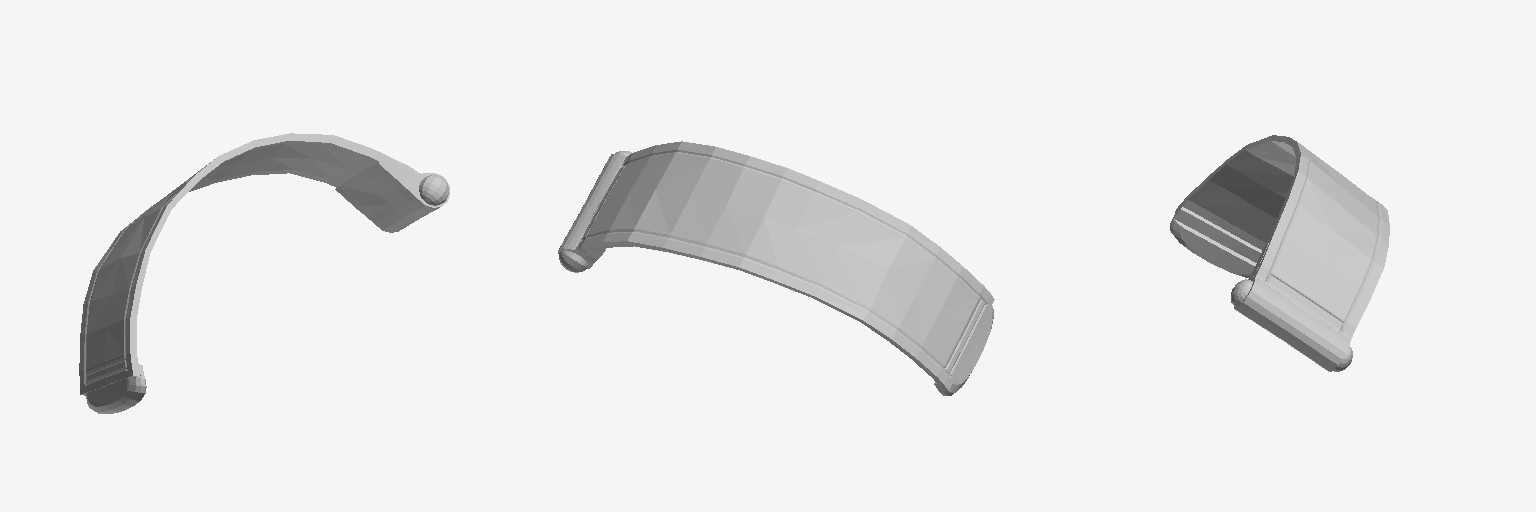
The model's file is max-tab-left-bottom.obj.
The picture shows the model from 3 angles: view 1: azimuth 30°, elevation 25°; view 2: azimuth 150°, elevation 25°; view 3: azimuth 270°, elevation 25°; orthographic projection.
Parts seen in each view (by area): view 1: group16 polySurface28 polySurface1, group16 polySurface26 polySurface1, group16 polySurface27 polySurface1; view 2: group16 polySurface28 polySurface1, group16 polySurface26 polySurface1; view 3: group16 polySurface28 polySurface1, group16 polySurface26 polySurface1, group16 polySurface27 polySurface1.
Boxes of the visible parts, box(x1,y1,x2,y2) form: group16 polySurface28 polySurface1: box(79, 133, 449, 395); group16 polySurface26 polySurface1: box(86, 364, 146, 413); group16 polySurface27 polySurface1: box(419, 175, 448, 205); group16 polySurface28 polySurface1: box(558, 141, 994, 390); group16 polySurface26 polySurface1: box(934, 306, 993, 395); group16 polySurface28 polySurface1: box(1175, 135, 1389, 371); group16 polySurface26 polySurface1: box(1170, 207, 1261, 277); group16 polySurface27 polySurface1: box(1231, 279, 1352, 371).
Bounding box in the file's own units: 1.78 × 1 × 0.9431.